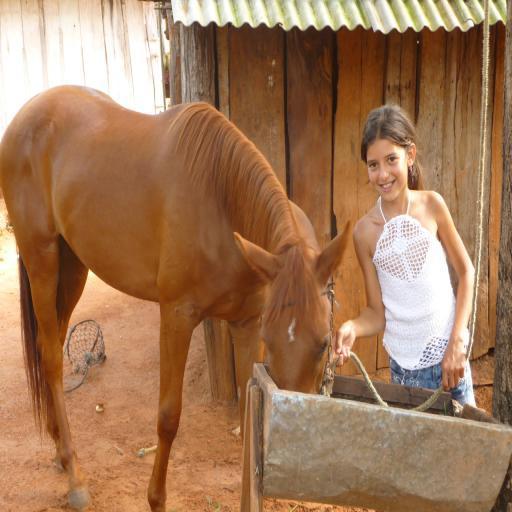Horse: (0, 86, 350, 511)
